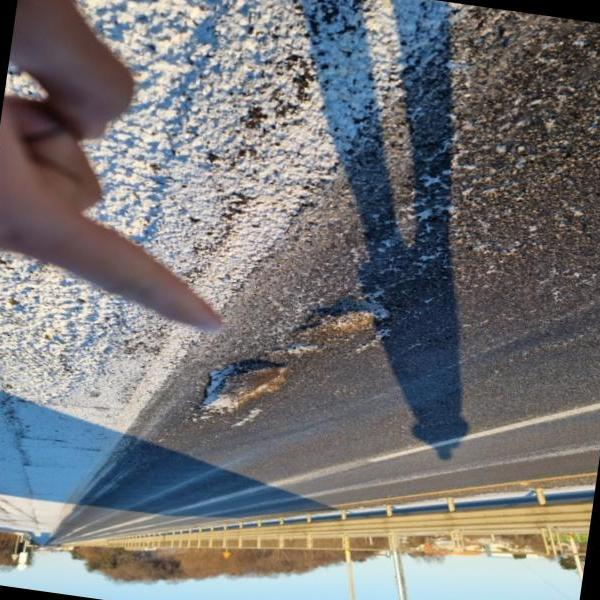pothole: (185, 347, 299, 437), (298, 302, 394, 351)
